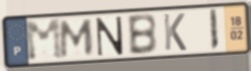B: (125, 12, 159, 57)
I: (208, 7, 221, 52)
K: (162, 12, 188, 52)
M: (22, 18, 67, 64), (59, 18, 95, 60)
N: (94, 15, 125, 58)
